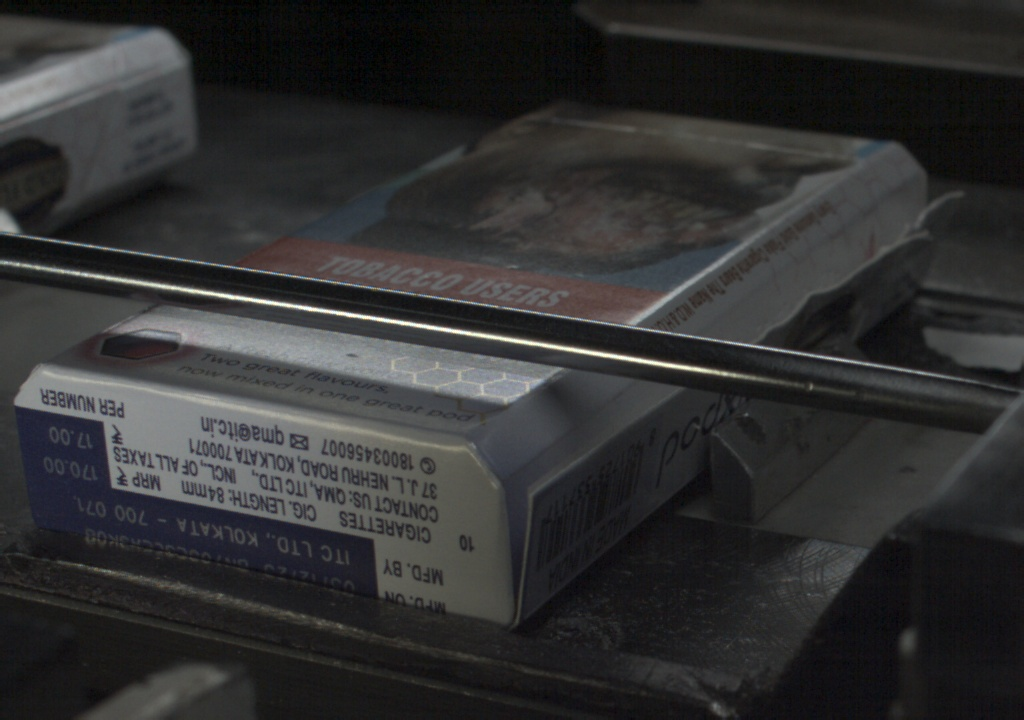g_bottom: (14, 368, 509, 626)
g_label: (24, 488, 378, 595)
ng_lmiter: (512, 441, 580, 592), (725, 279, 801, 340), (804, 222, 876, 279), (587, 381, 665, 433)
ng_miter: (887, 178, 961, 224)
price: (20, 418, 107, 488)
